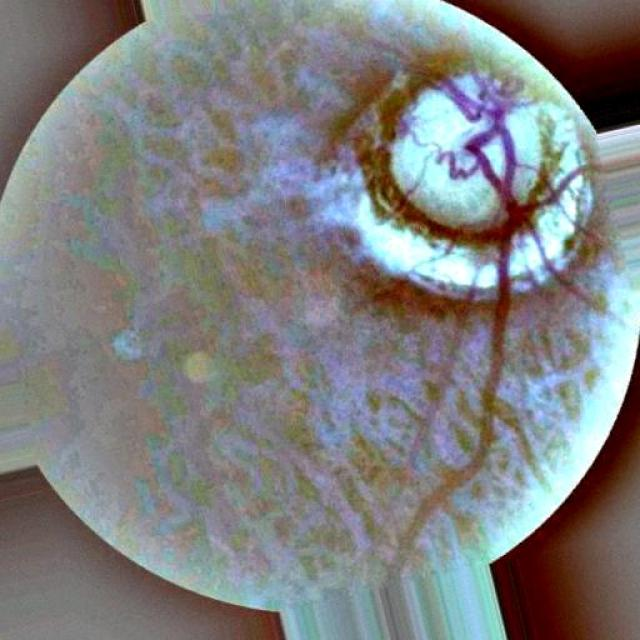Macula: (288, 195, 306, 221)
Nerves: (480, 170, 531, 439), (450, 129, 500, 191), (487, 104, 516, 171)
Optic Disk: (346, 76, 594, 292)
